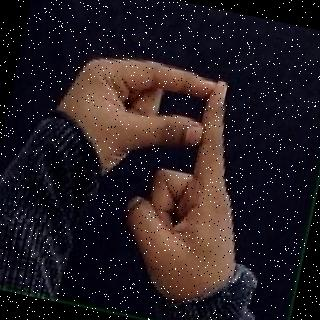P: (36, 29, 282, 310)
